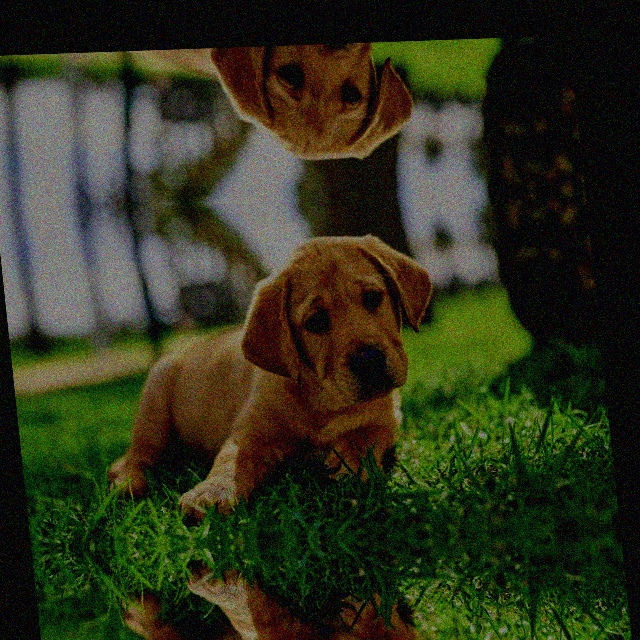dog: (67, 218, 453, 519), (48, 41, 417, 183), (103, 561, 472, 640)
